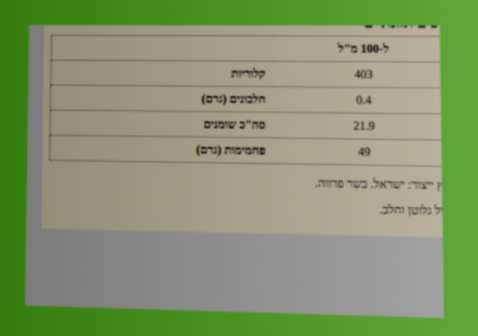carbs: (357, 144, 372, 160)
energy: (353, 66, 374, 82)
fat: (352, 118, 376, 134)
protein: (355, 92, 373, 108)
